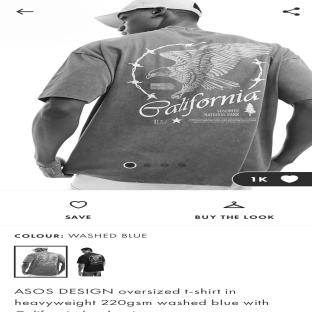cancel icon: (15, 4, 39, 19)
clothing icon: (219, 200, 247, 210)
love icon: (59, 198, 95, 212), (280, 173, 302, 184)
radio: (174, 161, 191, 169), (122, 162, 140, 169), (143, 161, 154, 170), (159, 162, 172, 169)
shareicon: (283, 5, 303, 18)
